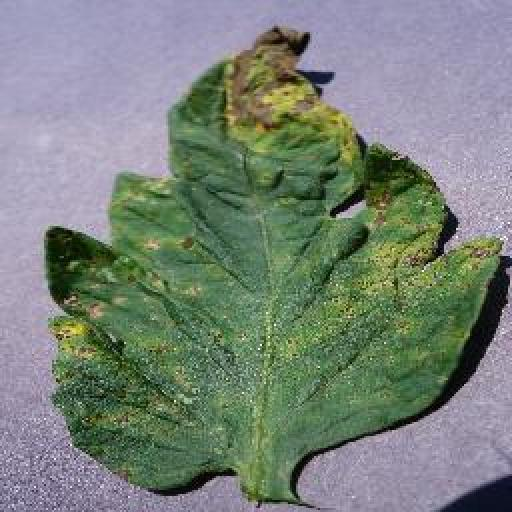Septoria: (43, 25, 503, 491)
